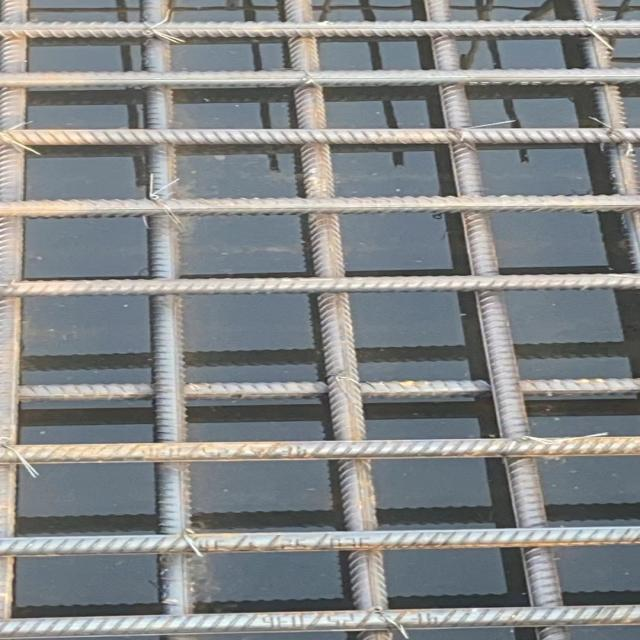ribbed bar: (417, 0, 573, 639), (283, 0, 395, 639), (138, 0, 199, 639), (0, 604, 639, 639), (0, 525, 639, 557), (571, 0, 639, 273), (0, 436, 639, 463), (18, 378, 639, 405), (0, 0, 26, 639), (0, 193, 639, 218), (0, 273, 639, 298), (0, 68, 639, 89), (0, 21, 639, 41), (0, 127, 639, 147)
